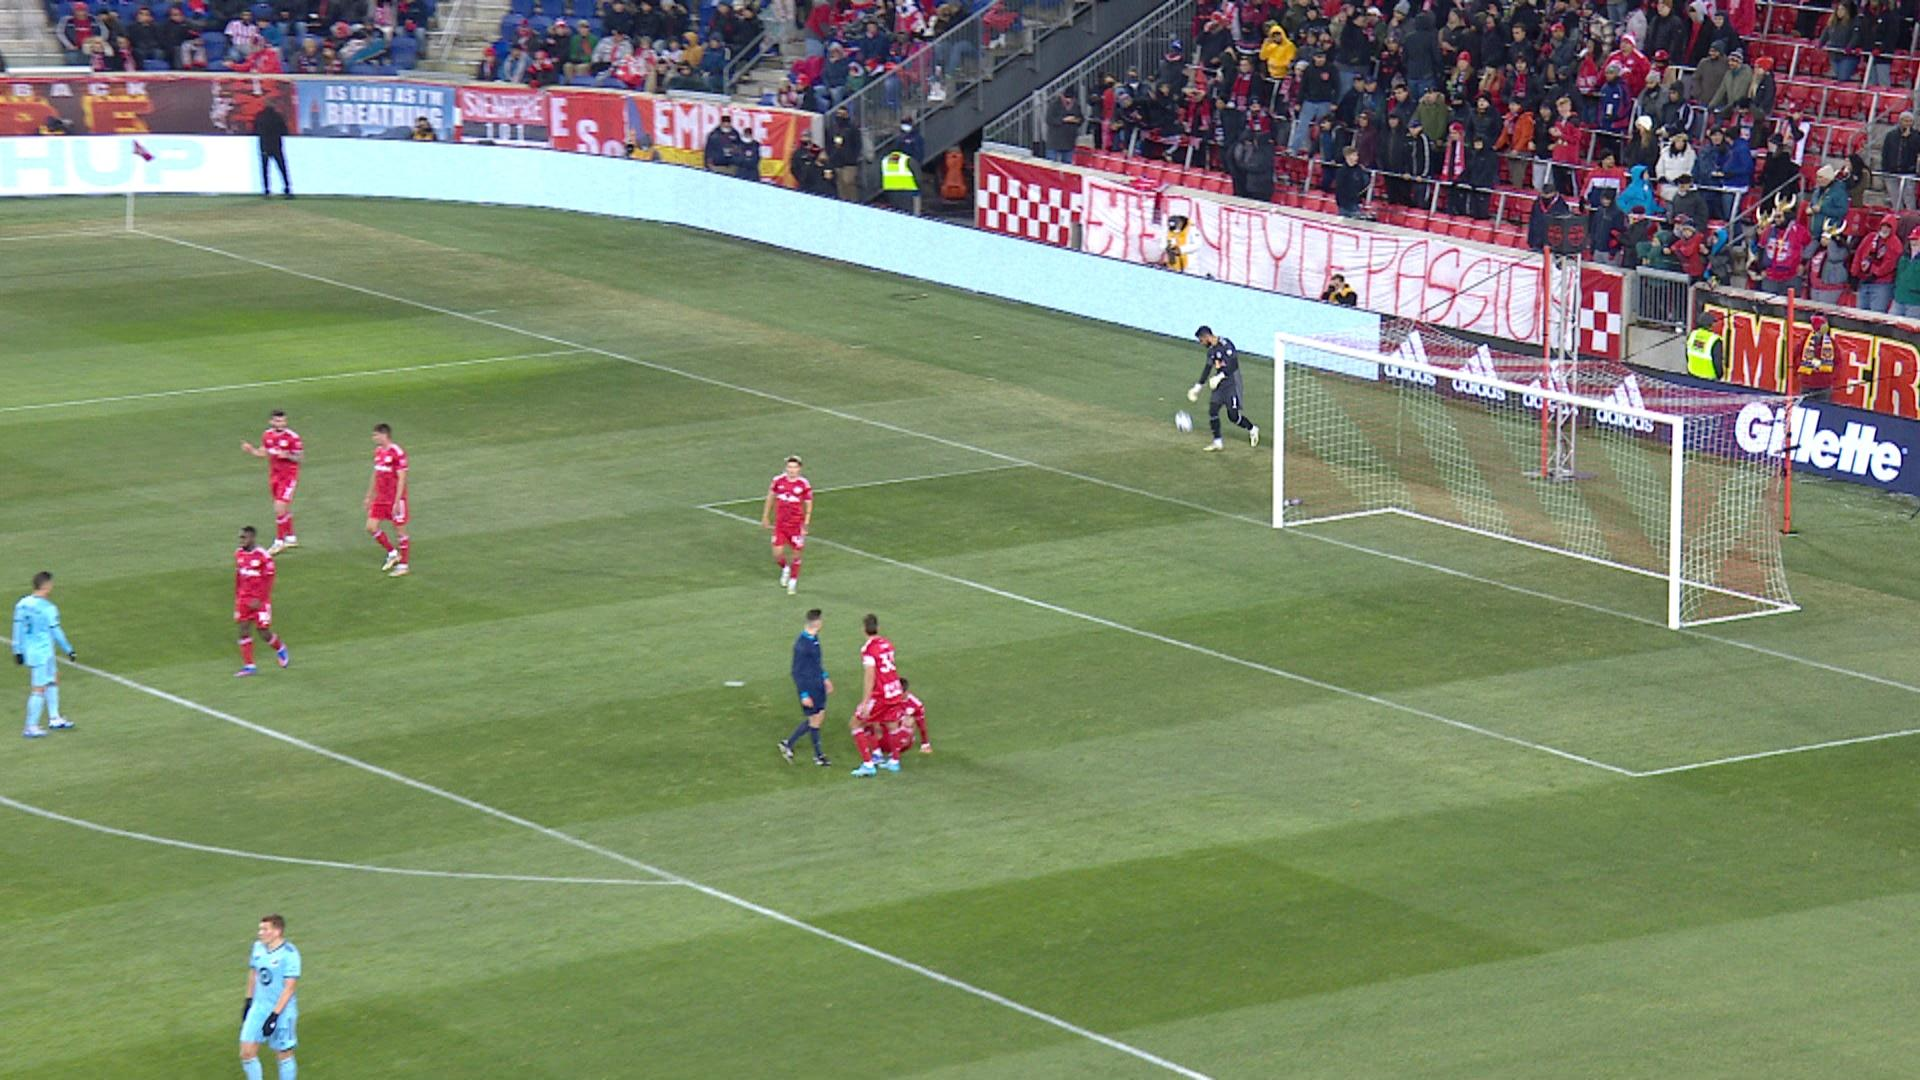football: (1175, 412, 1195, 433)
